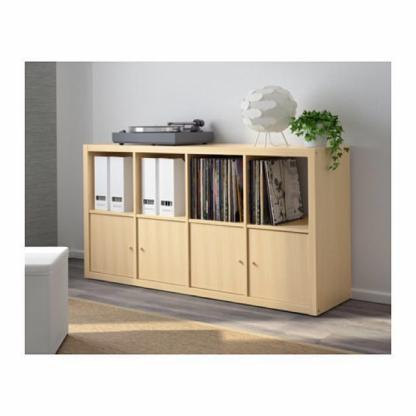lamp: (81, 139, 354, 321)
